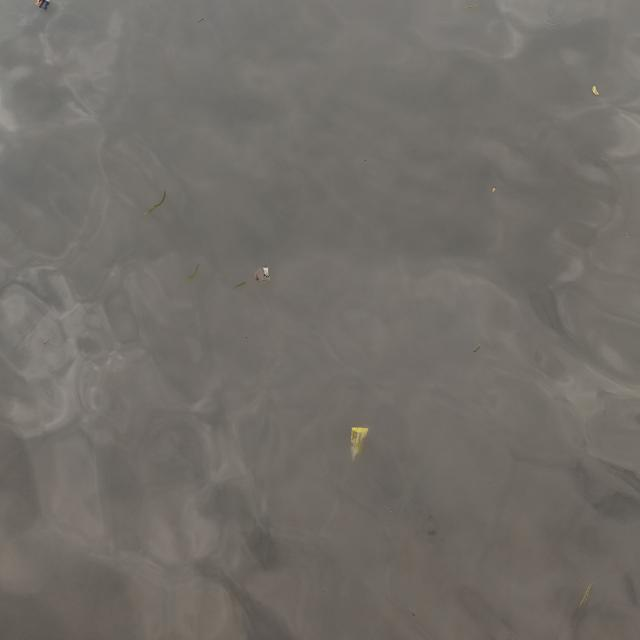Bungkus Makanan: (348, 423, 371, 465)
Bungkus Minuman: (252, 265, 275, 285)
